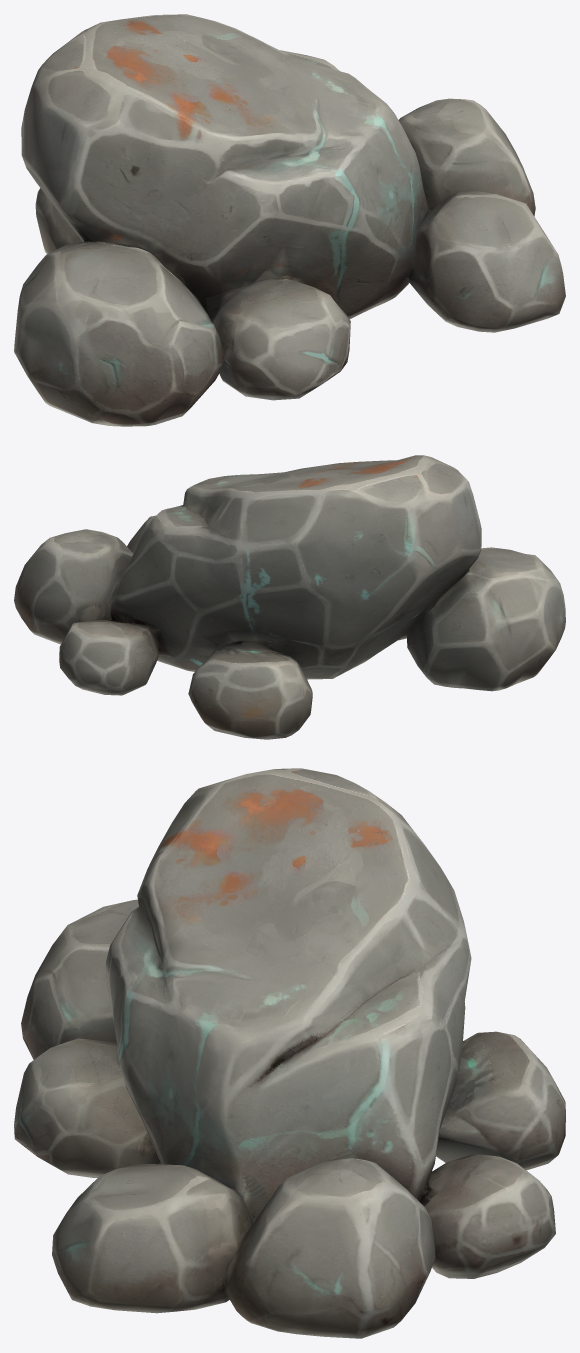
3 renders of one model, top to bottom at view 1: azimuth 30°, elevation 25°; view 2: azimuth 150°, elevation 25°; view 3: azimuth 270°, elevation 25°, orthographic. The views are drawn at different scales.
Parts seen in each view (by area): view 1: Mesh_0; view 2: Mesh_0; view 3: Mesh_0.
Boxes of the visible parts, box(x1,y1,x2,y2) form: Mesh_0: box(14, 14, 565, 426); Mesh_0: box(14, 455, 565, 739); Mesh_0: box(14, 768, 565, 1338).
Size of the model in its own units: 1.91 by 0.8647 by 1.37.
1 material, 1 textured.
